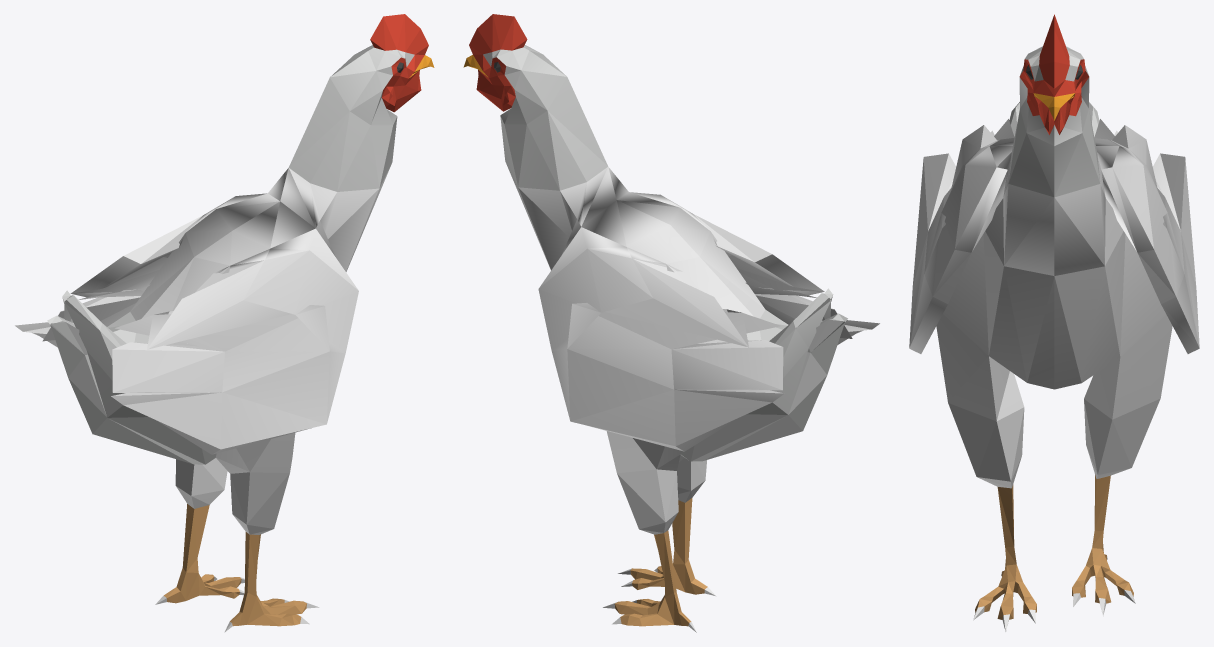
File: SM_minorai_chicken_meshstandin.obj
The picture shows the model from 3 angles, left to right: view 1: azimuth 30°, elevation 25°; view 2: azimuth 150°, elevation 25°; view 3: azimuth 270°, elevation 25°; orthographic projection. The views are drawn at different scales.
Visible parts, largest first — view 1: SM_minorai_chicken_meshstandin_MI_Hen; view 2: SM_minorai_chicken_meshstandin_MI_Hen; view 3: SM_minorai_chicken_meshstandin_MI_Hen.
Boxes of the visible parts, bbox=[...] form: SM_minorai_chicken_meshstandin_MI_Hen: bbox=[15, 14, 434, 632]; SM_minorai_chicken_meshstandin_MI_Hen: bbox=[463, 14, 879, 632]; SM_minorai_chicken_meshstandin_MI_Hen: bbox=[909, 14, 1199, 632].
Bounding box in the file's own units: 0.4428 × 0.6109 × 0.2403.
1 material, 1 textured.
